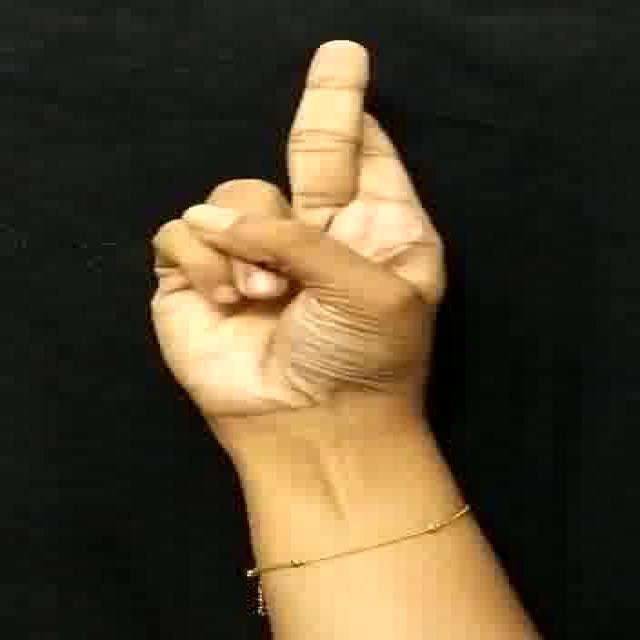kartarimukh: (146, 26, 458, 446)
